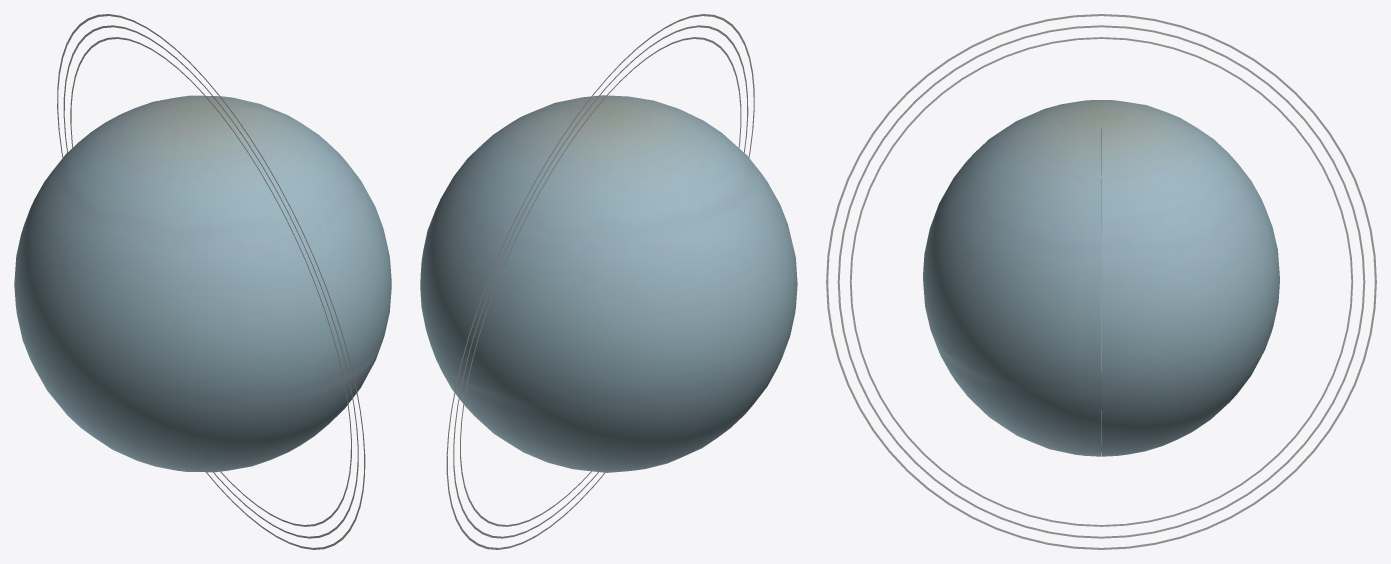
Rendered from uranus.glb.
The picture shows the model from 3 angles, left to right: view 1: azimuth 30°, elevation 25°; view 2: azimuth 150°, elevation 25°; view 3: azimuth 270°, elevation 25°; orthographic projection. The views are drawn at different scales.
Parts seen in each view (by area): view 1: Sphere_Material.002_0.004, Circle_ring_0.001, Circle.001_ring_0, Circle.002_ring_0; view 2: Sphere_Material.002_0.004, Circle_ring_0.001, Circle.001_ring_0, Circle.002_ring_0; view 3: Sphere_Material.002_0.004, Circle_ring_0.001, Circle.001_ring_0, Circle.002_ring_0.
Boxes of the visible parts, bbox=[...] form: Sphere_Material.002_0.004: bbox=[14, 95, 391, 472]; Circle_ring_0.001: bbox=[57, 14, 365, 549]; Circle.001_ring_0: bbox=[63, 25, 358, 538]; Circle.002_ring_0: bbox=[70, 37, 351, 526]; Sphere_Material.002_0.004: bbox=[420, 95, 797, 472]; Circle_ring_0.001: bbox=[446, 14, 754, 549]; Circle.001_ring_0: bbox=[453, 25, 748, 538]; Circle.002_ring_0: bbox=[460, 37, 741, 526]; Sphere_Material.002_0.004: bbox=[923, 100, 1279, 456]; Circle_ring_0.001: bbox=[826, 14, 1376, 549]; Circle.001_ring_0: bbox=[837, 25, 1365, 538]; Circle.002_ring_0: bbox=[849, 37, 1353, 526].
Bounding box in the file's own units: 6.42 × 9.69 × 9.89.
2 materials, 1 textured.
